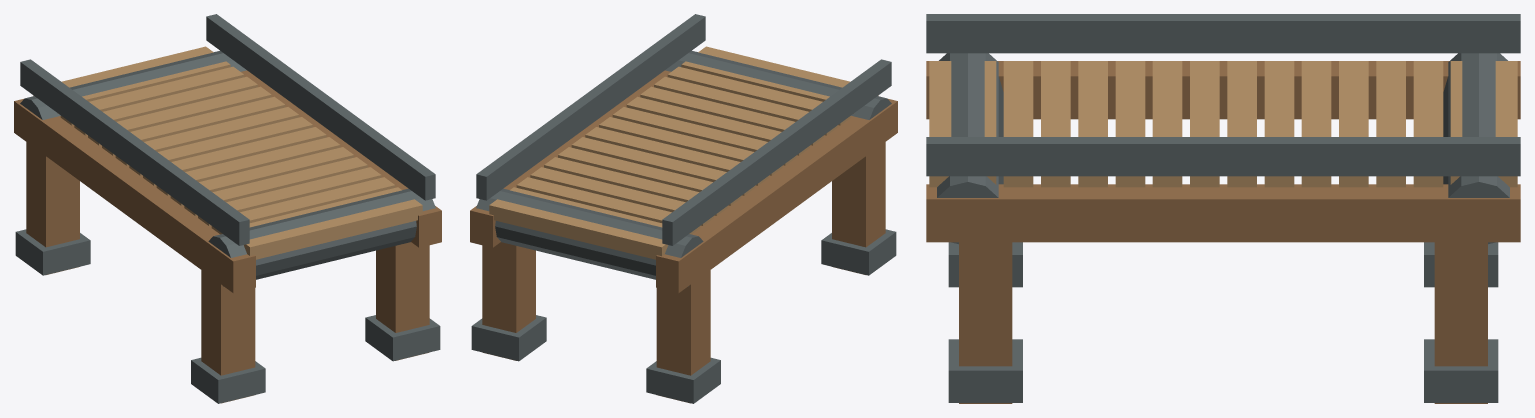
Rendered from vf_conveyor_2m.glb.
3 renders of one model, left to right at view 1: azimuth 30°, elevation 25°; view 2: azimuth 150°, elevation 25°; view 3: azimuth 270°, elevation 25°, orthographic. The views are drawn at different scales.
Parts seen in each view (by area): view 1: Static, Belt_Surface, Roller_0.86, Roller_-0.86; view 2: Static, Belt_Surface, Roller_-0.86, Roller_0.86; view 3: Static, Belt_Surface, Roller_-0.86, Roller_0.86.
Boxes of the visible parts, x1,y1,x2,y2 form: Static: (14,14,441,403); Belt_Surface: (33,46,422,259); Roller_0.86: (208,188,435,286); Roller_-0.86: (20,50,246,119); Static: (470,14,897,403); Belt_Surface: (489,46,878,259); Roller_-0.86: (476,188,703,286); Roller_0.86: (665,50,891,119); Static: (926,14,1520,403); Belt_Surface: (929,61,1517,187); Roller_-0.86: (1443,53,1509,244); Roller_0.86: (937,53,1003,244).
Bounding box in the file's own units: 1.17 × 0.95 × 2.
